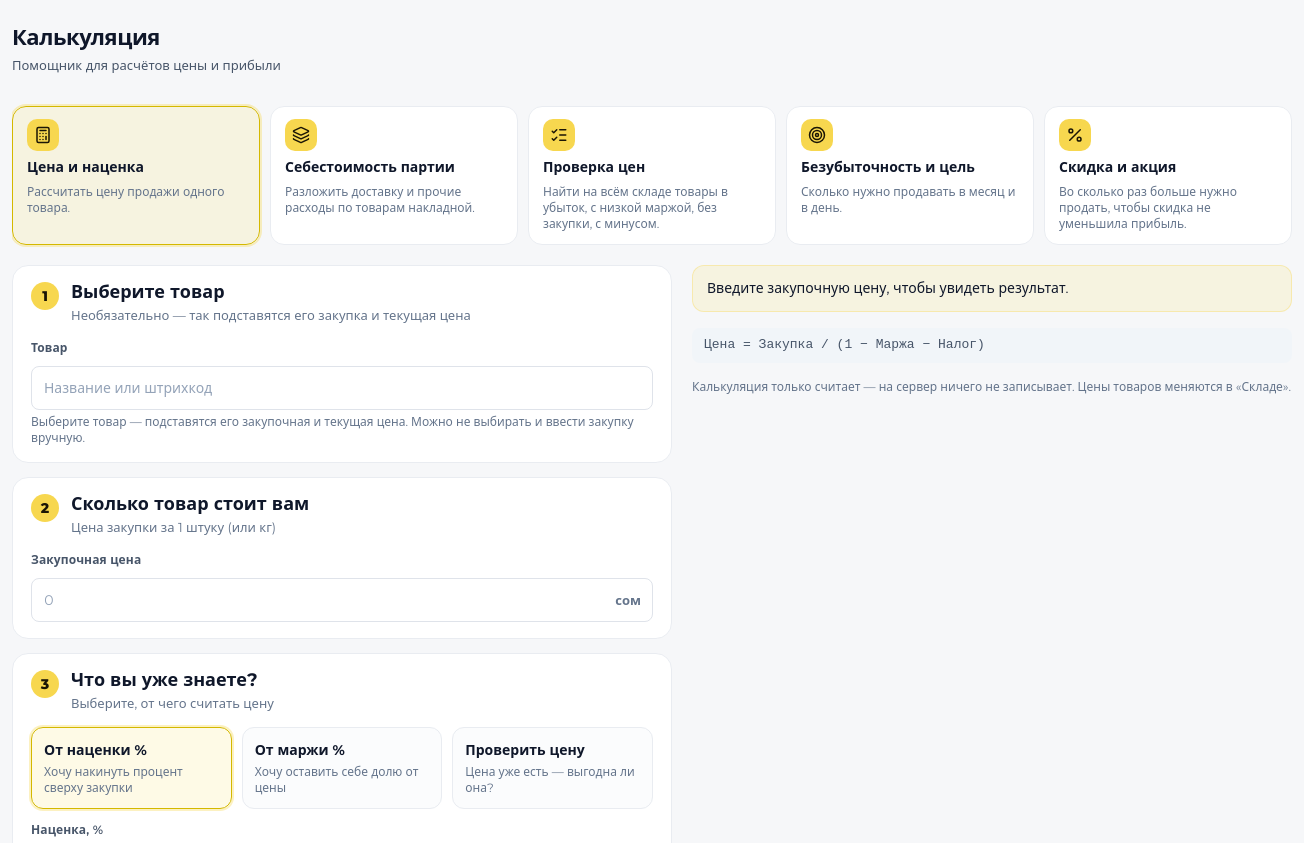
Test: ввод › мусор в закупке — ошибка у поля и подсказка, а не «введите закупку»
Type "abc" into the field labelled "Закупочная цена" at (342,600), box [31, 578, 653, 622]
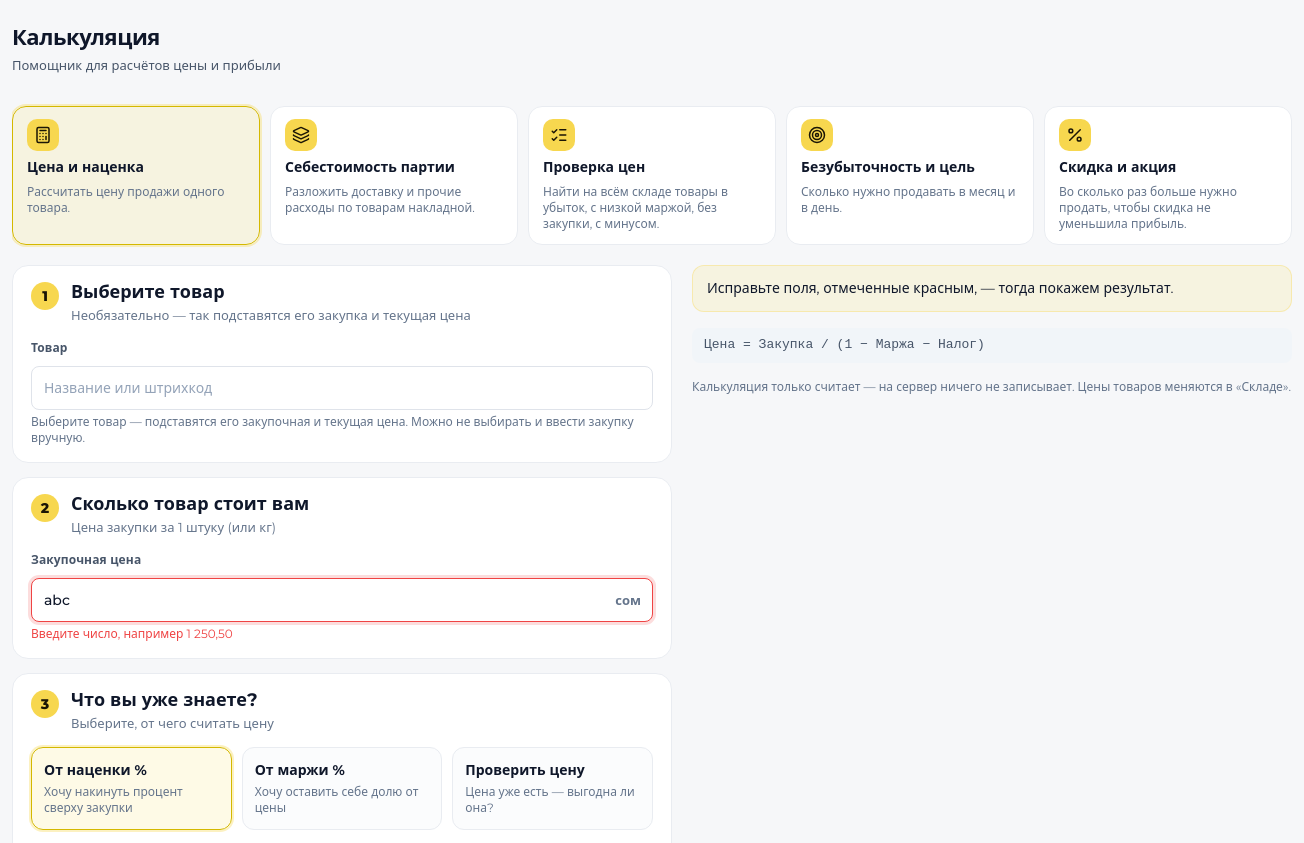
Now the text "Введите число, например 1 250,50" is shown, box [31, 626, 233, 641]
Now the text "Исправьте поля, отмеченные красным" is shown, box [707, 279, 1174, 297]
